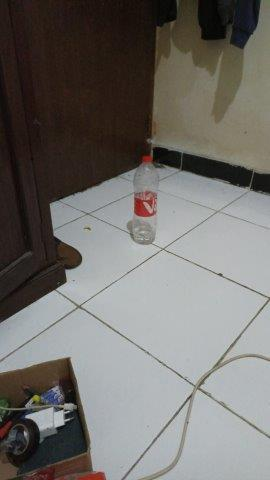botolplastik: (131, 156, 157, 245)
